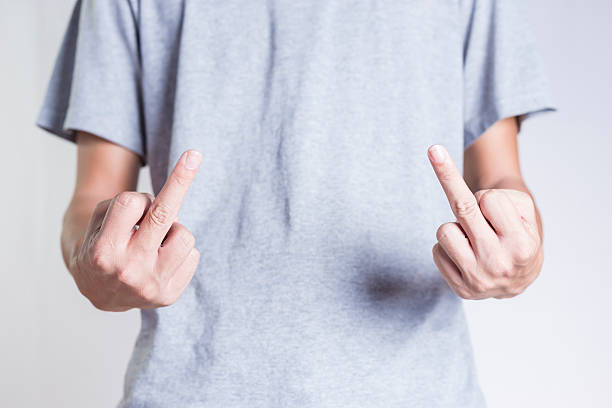insulting_gesture: (77, 148, 204, 309), (424, 142, 541, 301)
